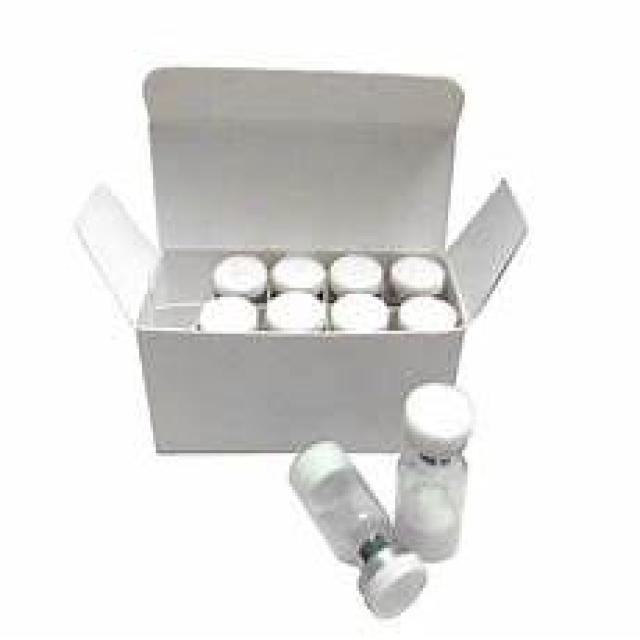vial: (406, 378, 486, 440), (360, 556, 430, 606), (392, 250, 450, 296), (216, 252, 266, 294), (333, 252, 381, 292), (334, 289, 384, 327), (198, 295, 250, 331), (405, 299, 453, 332), (272, 256, 316, 289)
